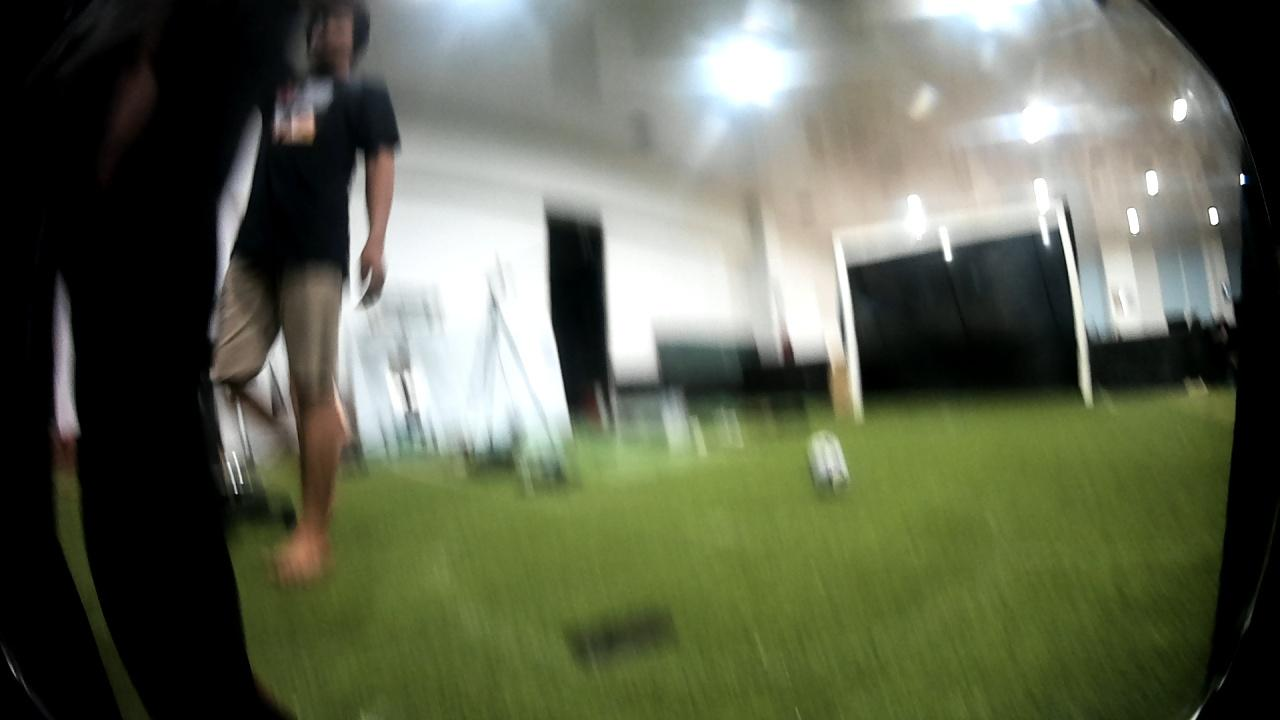ball: (800, 428, 856, 505)
